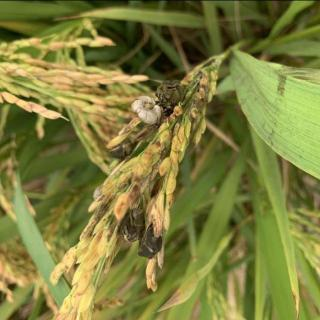Gosong-Palsu: (130, 80, 186, 124), (122, 207, 164, 258), (108, 133, 134, 160)
